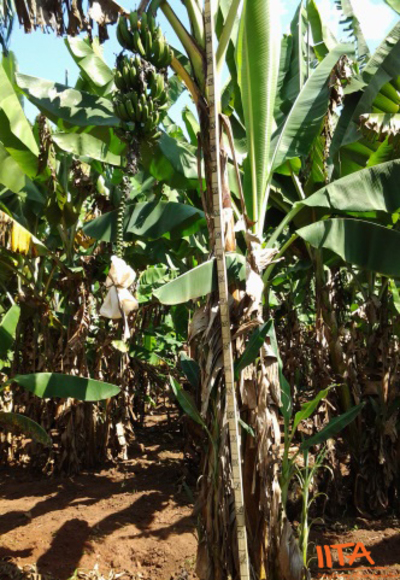bananaHand: (113, 5, 177, 148)
